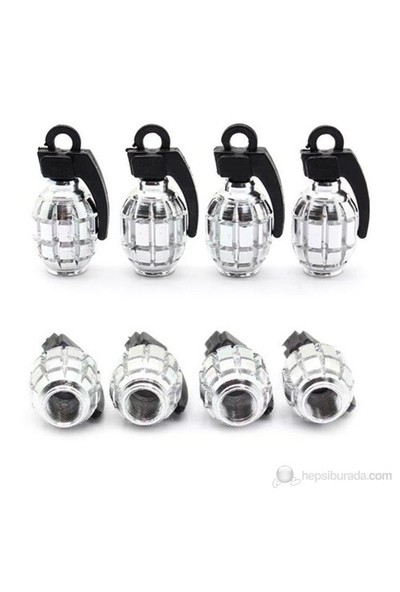e1: (293, 126, 372, 276), (121, 127, 201, 274), (209, 124, 284, 276), (33, 127, 108, 278), (31, 331, 107, 428), (281, 331, 359, 422), (113, 330, 189, 423), (203, 334, 273, 424)
